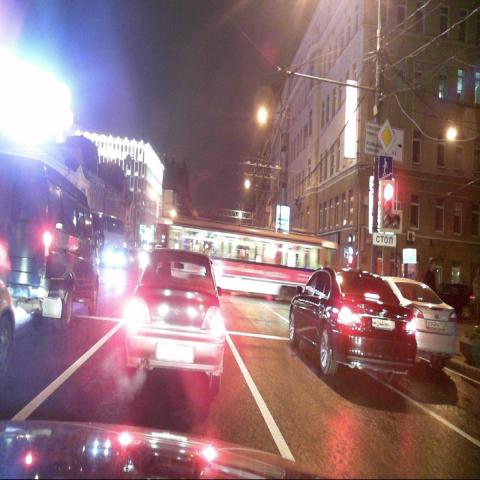6_6: (378, 156, 392, 181)
